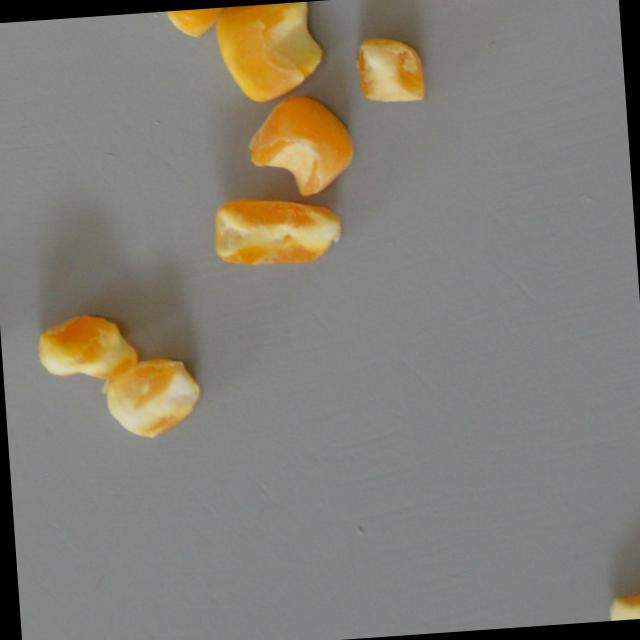pelicula: (244, 89, 359, 198), (216, 0, 326, 102), (210, 189, 344, 269), (102, 353, 203, 440), (32, 307, 139, 382), (352, 33, 425, 105), (162, 3, 262, 38), (605, 587, 640, 621)
